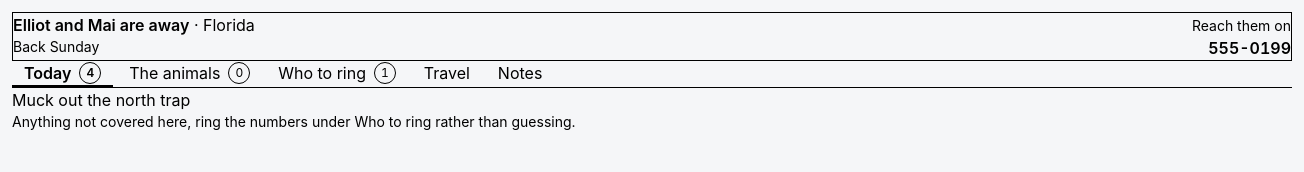
Test: only one panel is ever in the document › replaces the chores rather than growing the page
Check: the text "Muck out the north trap" is shown, box top-left (12, 90), bottom-right (190, 110)
Step 1. Click the tab "Who to ring 1" → {"x": 337, "y": 74}, box top-left (266, 61), bottom-right (408, 87)
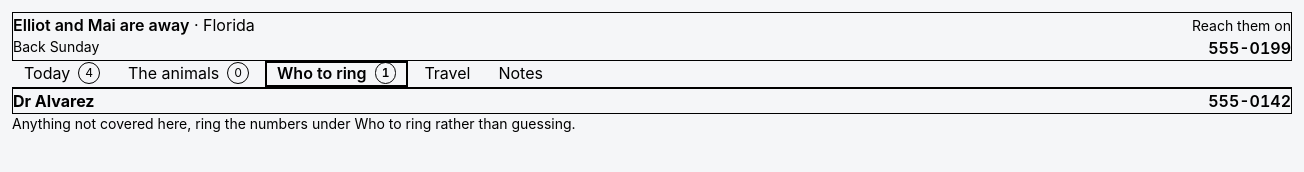
Check: the text "Muck out the north trap" is gone
Check: the text "Dr Alvarez" is shown, box top-left (13, 91), bottom-right (94, 111)
